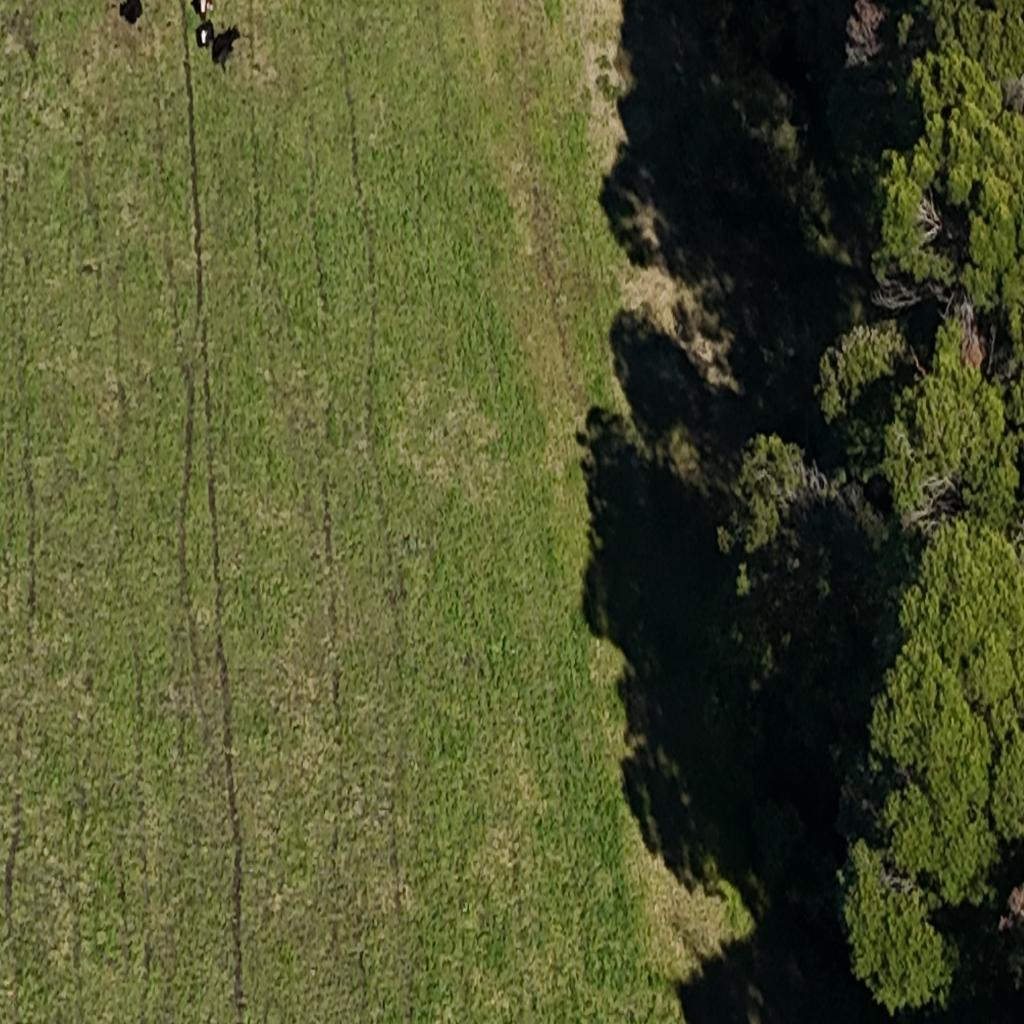cow: (213, 25, 240, 68), (119, 0, 142, 26), (196, 22, 214, 51)
